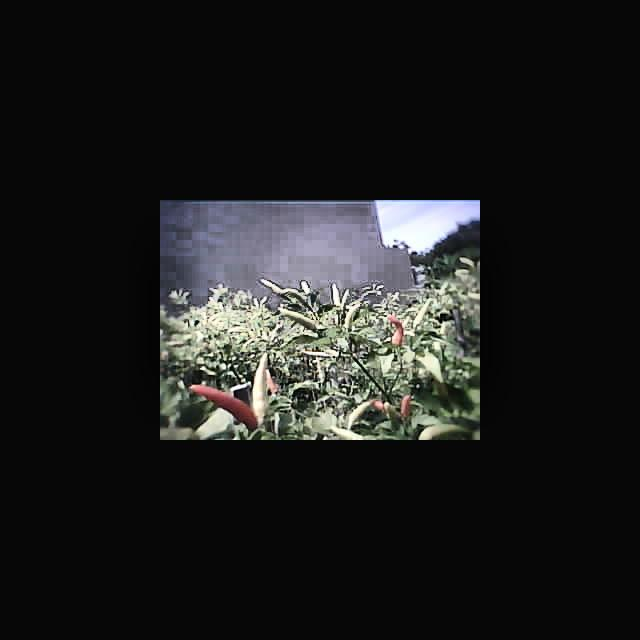Cabai: (188, 382, 256, 429), (382, 311, 409, 349), (389, 389, 427, 415)
